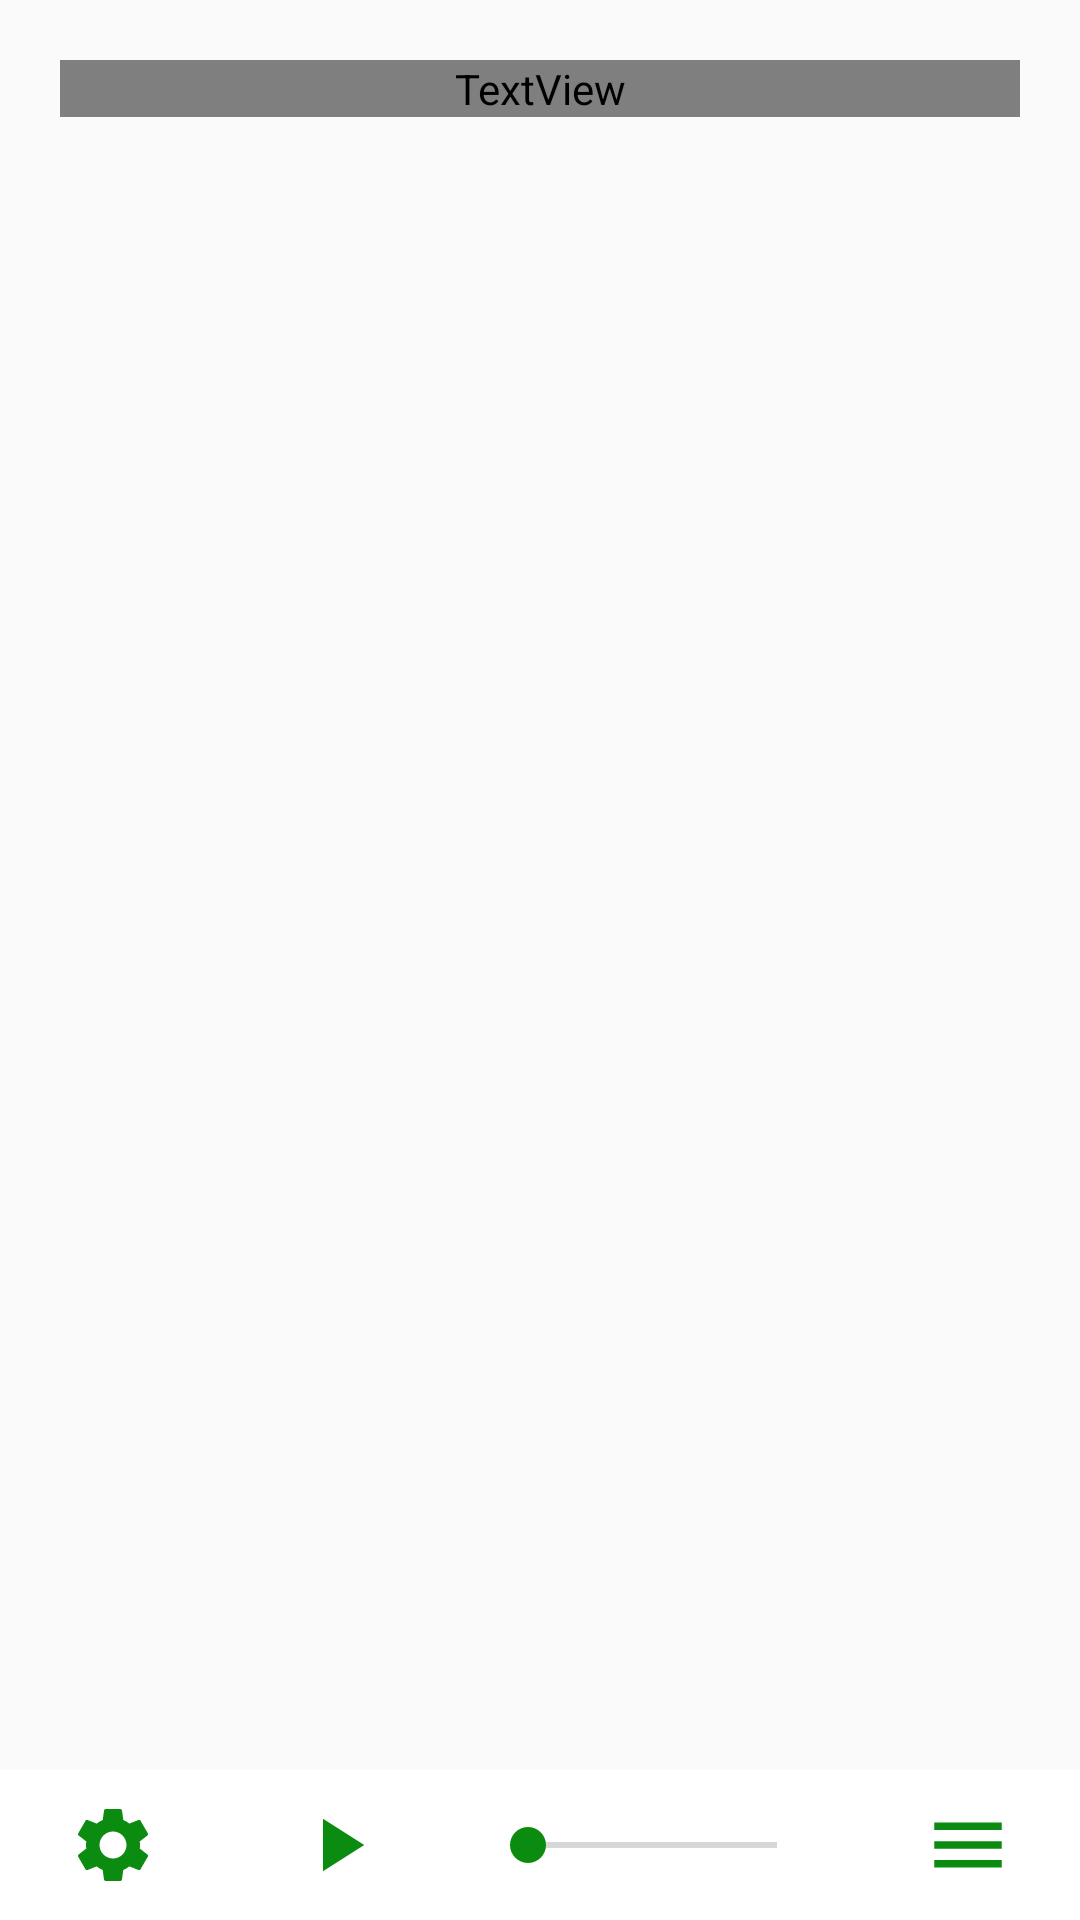

Screen size 1080x1920. Icon name, then its center in pixels as (x=x, y=y):
menu: (x=968, y=1845)
settings: (x=113, y=1845)
